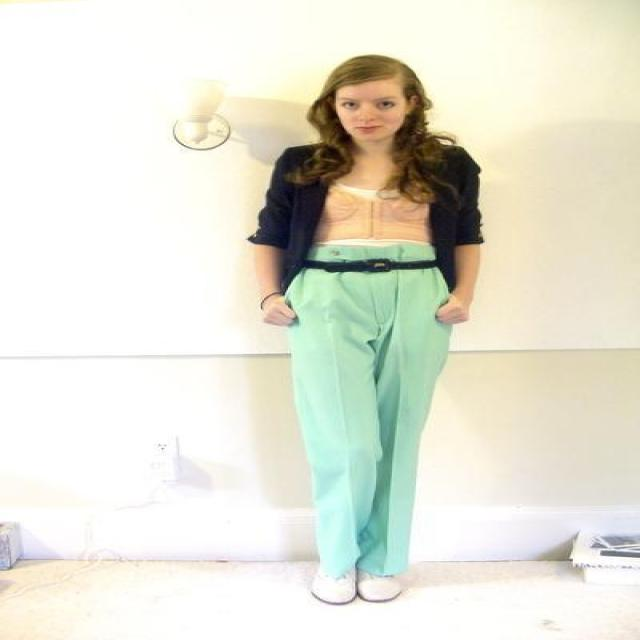jacket: (250, 145, 483, 292)
pants: (280, 237, 451, 582)
shirt: (315, 184, 427, 248)
shoe: (306, 567, 426, 606)
